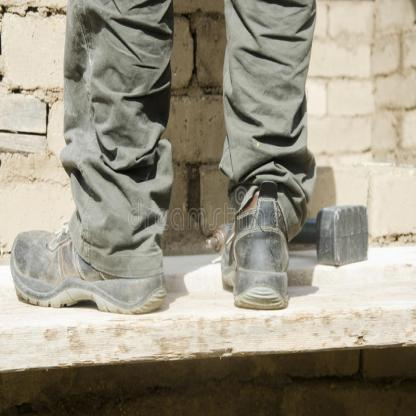bota: (7, 215, 171, 318), (216, 180, 292, 313)
